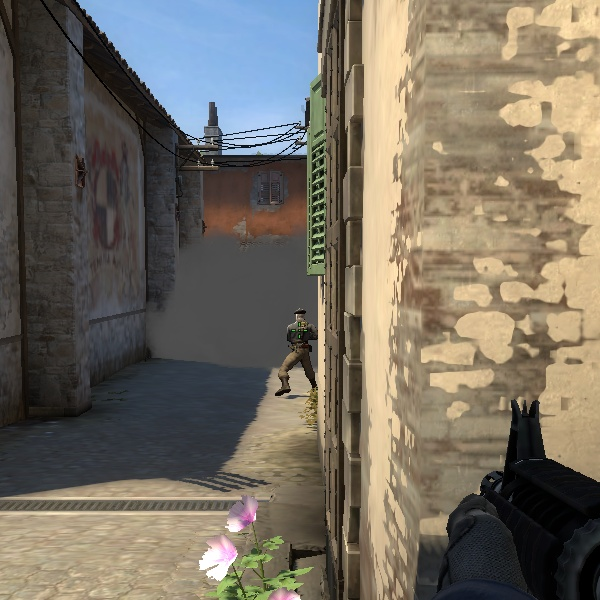ct_body: (276, 302, 318, 396)
